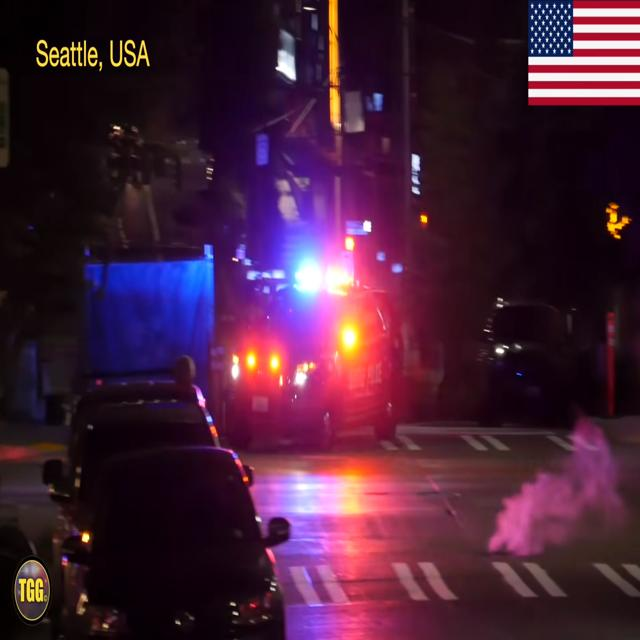emergency-vehicles: (203, 222, 411, 463)
